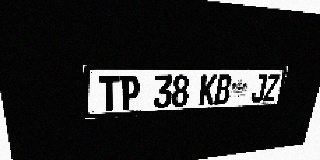3: (153, 75, 173, 108)
8: (171, 75, 190, 107)
B: (214, 75, 232, 105)
J: (250, 74, 268, 103)
K: (199, 75, 217, 106)
P: (120, 75, 140, 110)
T: (99, 75, 120, 111)
Z: (263, 74, 280, 102)
